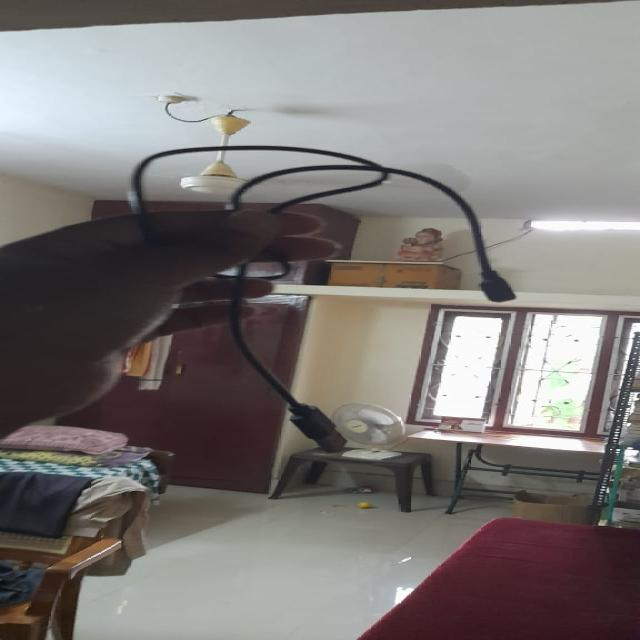Charger - Recyclable: (111, 130, 558, 467)
